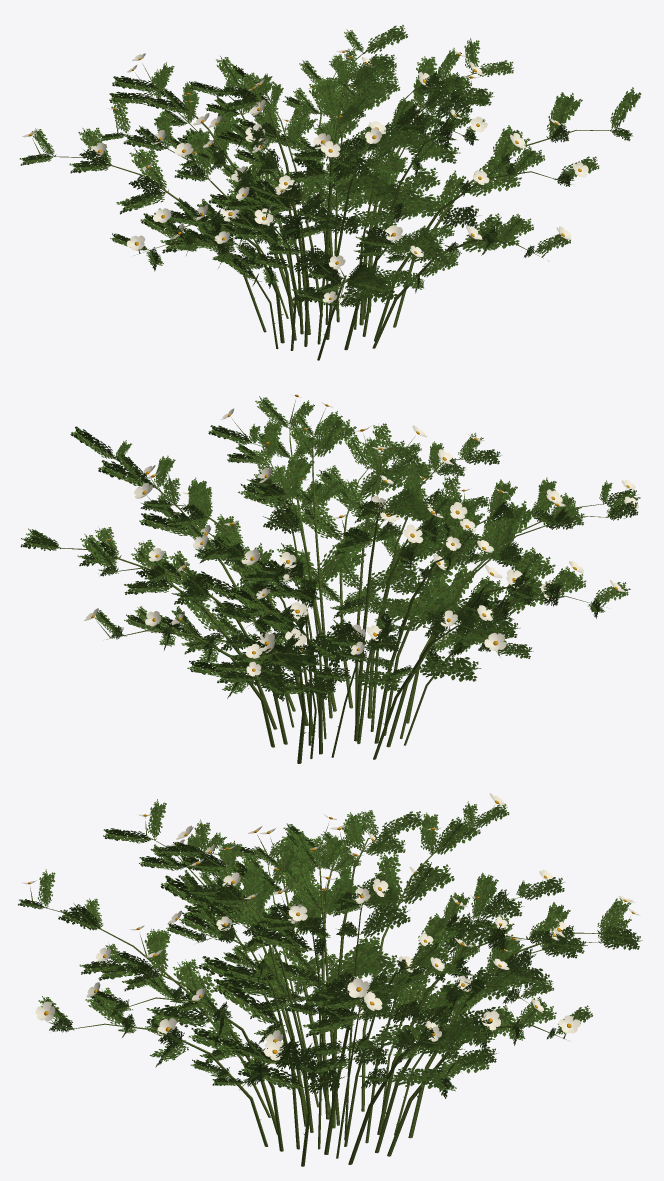
File: burnet-rose.glb
3 views of the same model, one above another, from view 1: azimuth 30°, elevation 25°; view 2: azimuth 150°, elevation 25°; view 3: azimuth 270°, elevation 25° (orthographic). The views are drawn at different scales.
Parts seen in each view (by area): view 1: Burnet Rose; view 2: Burnet Rose; view 3: Burnet Rose.
Part boxes in pixels (x1,y1,x2,y2): Burnet Rose: (19, 25, 641, 360); Burnet Rose: (20, 394, 640, 763); Burnet Rose: (18, 793, 642, 1166).
Bounding box in the file's own units: 1.8 × 0.874 × 1.68.
4 materials, 4 textured.
